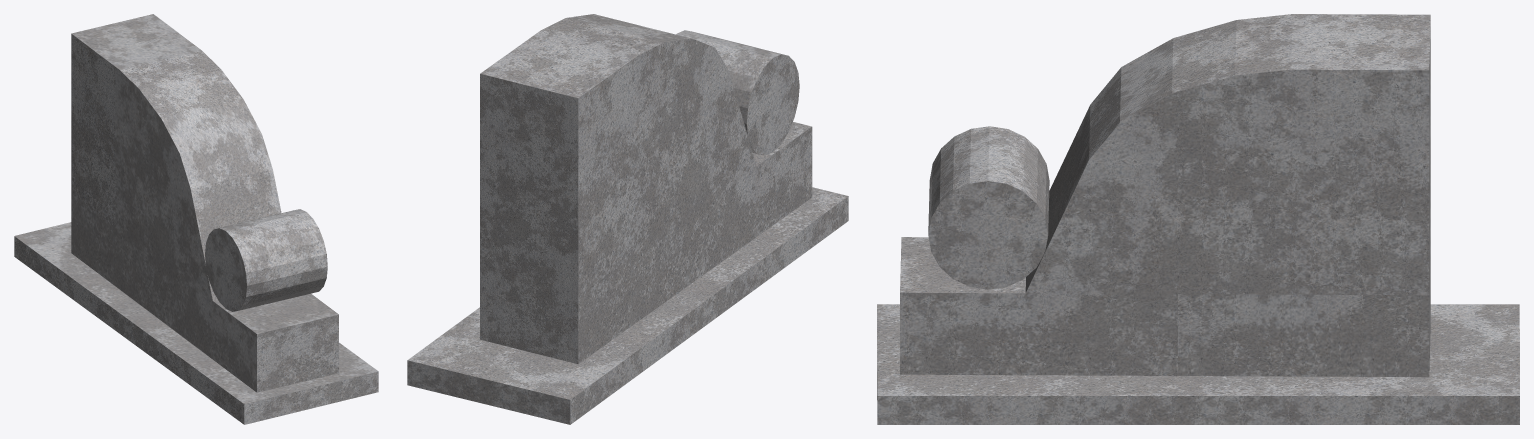
The model's file is SM_RoyalStair_3.fbx.
The picture shows the model from 3 angles, left to right: view 1: azimuth 30°, elevation 25°; view 2: azimuth 150°, elevation 25°; view 3: azimuth 270°, elevation 25°; orthographic projection. The views are drawn at different scales.
Visible parts, largest first — view 1: SM_RoyalStair_3; view 2: SM_RoyalStair_3; view 3: SM_RoyalStair_3.
Boxes of the visible parts, left/top/right/bottom form: SM_RoyalStair_3: left=14, top=14, right=378, bottom=424; SM_RoyalStair_3: left=407, top=14, right=848, bottom=424; SM_RoyalStair_3: left=877, top=14, right=1519, bottom=424.
Bounding box in the file's own units: 72.94 × 216 × 124.
1 material, 1 textured.
